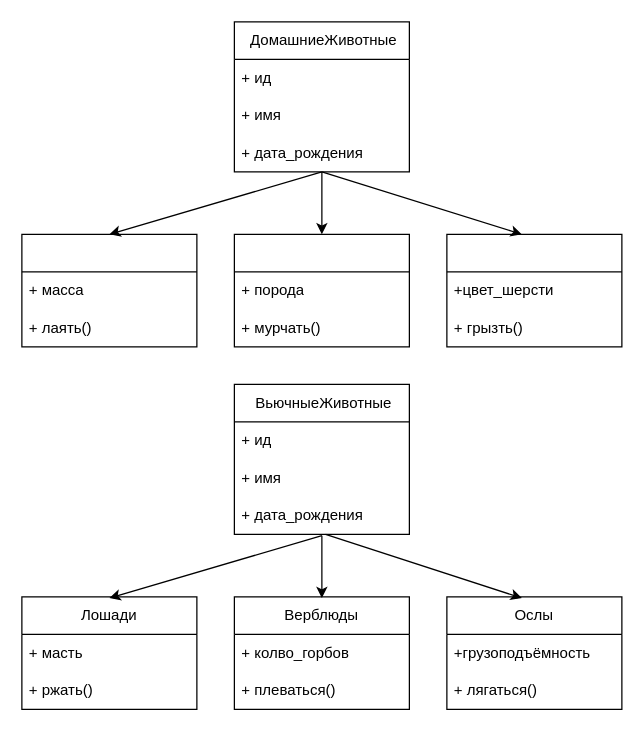
This 644x731 diagram has some shape labels left out. Here are the shapes that lost their labels. From the top down, the box of each, then its label:
(21, 233, 197, 347): Собаки
(233, 233, 409, 347): Кошки
(446, 233, 622, 347): Хомяки
